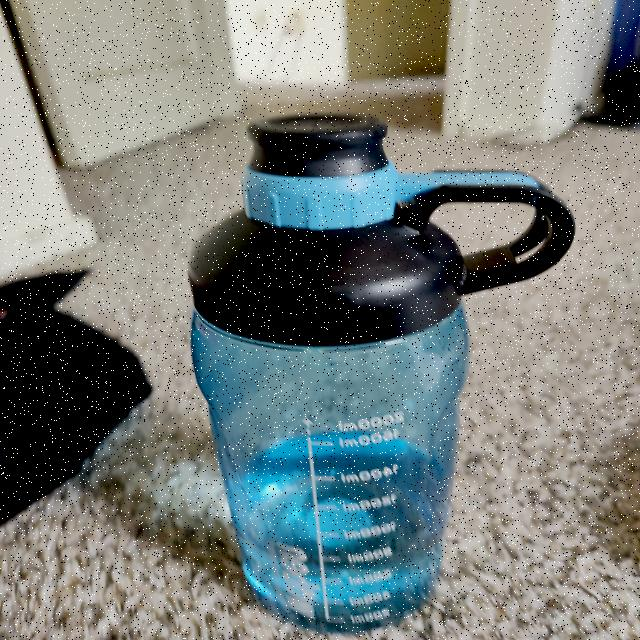bottle: (191, 121, 565, 628)
